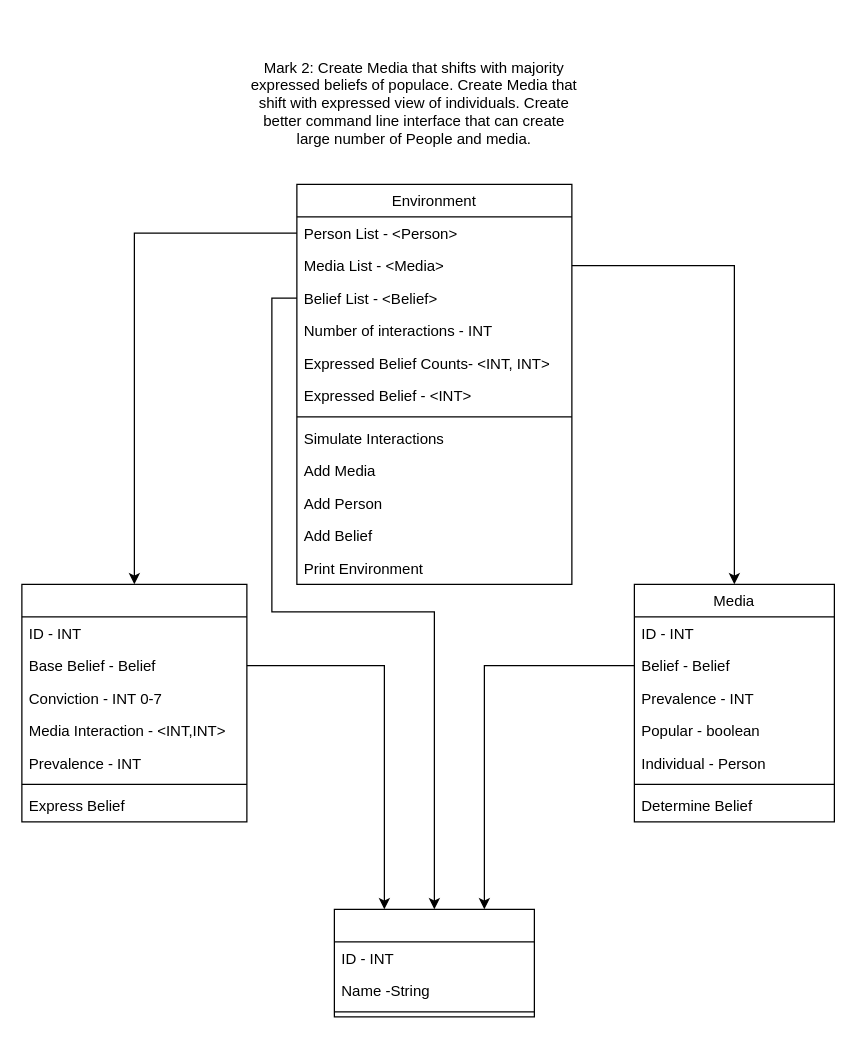
Some shapes in this 856 by 1039 pixel diagram are drawn without their labels. The shapes that lost their labels are listed below. From the top down, each one's box as (x1, y1, x2, y2) in pixels, then its label:
(21, 583, 247, 822): Person
(333, 908, 534, 1017): Belief
